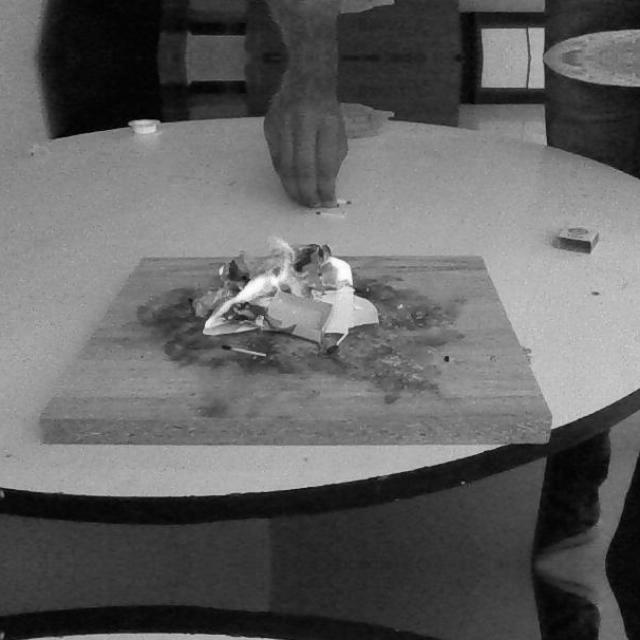smoke: (200, 237, 306, 329), (315, 255, 359, 292)
